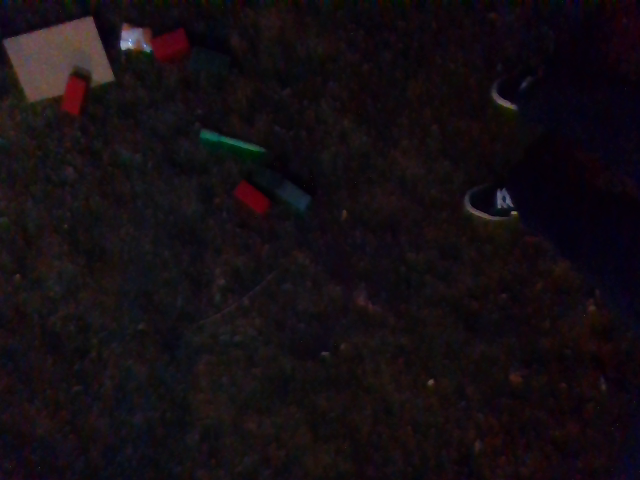Probe: (194, 123, 274, 163)
